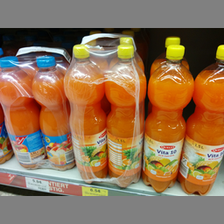juice: (141, 42, 195, 193), (177, 44, 224, 195), (104, 44, 148, 188), (64, 44, 109, 184), (30, 55, 75, 170), (1, 55, 46, 169)
